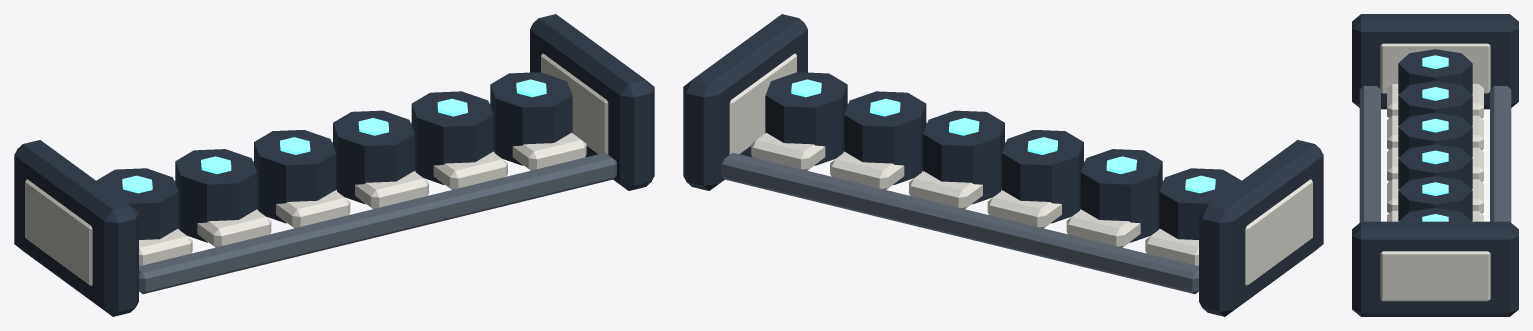
The model's file is plan_rail.glb.
The picture shows the model from 3 angles, left to right: view 1: azimuth 30°, elevation 25°; view 2: azimuth 150°, elevation 25°; view 3: azimuth 270°, elevation 25°; orthographic projection. The views are drawn at different scales.
Visible parts, largest first — view 1: plan_rail__rail__02, plan_rail__end, plan_rail__end__02, plan_rail__plan_node_06, plan_rail__plan_node_02, plan_rail__plan_node_05, plan_rail__plan_node_04, plan_rail__plan_node_03, plan_rail__ivory_end, plan_rail__plan_node_01, plan_rail__ivory_end__02, plan_rail__node_ivory__02 (+11 smaller); view 2: plan_rail__rail, plan_rail__end, plan_rail__end__02, plan_rail__plan_node_06, plan_rail__plan_node_02, plan_rail__plan_node_05, plan_rail__plan_node_04, plan_rail__plan_node_03, plan_rail__ivory_end, plan_rail__plan_node_01, plan_rail__ivory_end__02, plan_rail__node_ivory__03 (+11 smaller); view 3: plan_rail__end__02, plan_rail__end, plan_rail__ivory_end__02, plan_rail__rail, plan_rail__rail__02, plan_rail__ivory_end, plan_rail__plan_node_05, plan_rail__plan_node_01, plan_rail__plan_node_02, plan_rail__plan_node_04, plan_rail__plan_node_03, plan_rail__node_ivory__02 (+11 smaller).
Boxes of the visible parts, x1=… form: plan_rail__rail__02: x1=139, y1=152, x2=616, y2=294; plan_rail__end: x1=14, y1=140, x2=138, y2=316; plan_rail__end__02: x1=530, y1=14, x2=654, y2=190; plan_rail__plan_node_06: x1=490, y1=72, x2=572, y2=165; plan_rail__plan_node_02: x1=175, y1=149, x2=257, y2=242; plan_rail__plan_node_05: x1=411, y1=91, x2=493, y2=184; plan_rail__plan_node_04: x1=333, y1=110, x2=414, y2=204; plan_rail__plan_node_03: x1=254, y1=130, x2=335, y2=223; plan_rail__ivory_end: x1=25, y1=179, x2=92, y2=285; plan_rail__plan_node_01: x1=96, y1=168, x2=178, y2=239; plan_rail__ivory_end__02: x1=541, y1=53, x2=608, y2=154; plan_rail__node_ivory__02: x1=197, y1=209, x2=271, y2=247; plan_rail__rail: x1=721, y1=152, x2=1198, y2=294; plan_rail__end: x1=1199, y1=140, x2=1323, y2=316; plan_rail__end__02: x1=683, y1=14, x2=807, y2=190; plan_rail__plan_node_06: x1=765, y1=72, x2=847, y2=165; plan_rail__plan_node_02: x1=1080, y1=149, x2=1162, y2=242; plan_rail__plan_node_05: x1=844, y1=91, x2=926, y2=184; plan_rail__plan_node_04: x1=923, y1=110, x2=1004, y2=204; plan_rail__plan_node_03: x1=1002, y1=130, x2=1083, y2=223; plan_rail__ivory_end: x1=1245, y1=179, x2=1312, y2=285; plan_rail__plan_node_01: x1=1159, y1=168, x2=1241, y2=239; plan_rail__ivory_end__02: x1=729, y1=53, x2=796, y2=154; plan_rail__node_ivory__03: x1=987, y1=190, x2=1061, y2=228; plan_rail__end__02: x1=1352, y1=221, x2=1518, y2=316; plan_rail__end: x1=1352, y1=14, x2=1518, y2=109; plan_rail__ivory_end__02: x1=1380, y1=251, x2=1490, y2=301; plan_rail__rail: x1=1490, y1=86, x2=1511, y2=222; plan_rail__rail__02: x1=1359, y1=86, x2=1380, y2=222; plan_rail__ivory_end: x1=1380, y1=43, x2=1490, y2=93; plan_rail__plan_node_05: x1=1398, y1=176, x2=1472, y2=220; plan_rail__plan_node_01: x1=1398, y1=49, x2=1472, y2=93; plan_rail__plan_node_02: x1=1398, y1=81, x2=1472, y2=125; plan_rail__plan_node_04: x1=1398, y1=144, x2=1472, y2=189; plan_rail__plan_node_03: x1=1398, y1=112, x2=1472, y2=157; plan_rail__node_ivory__02: x1=1387, y1=115, x2=1483, y2=149.
Size of the model in its own units: 3.8 by 0.7 by 1.2.
